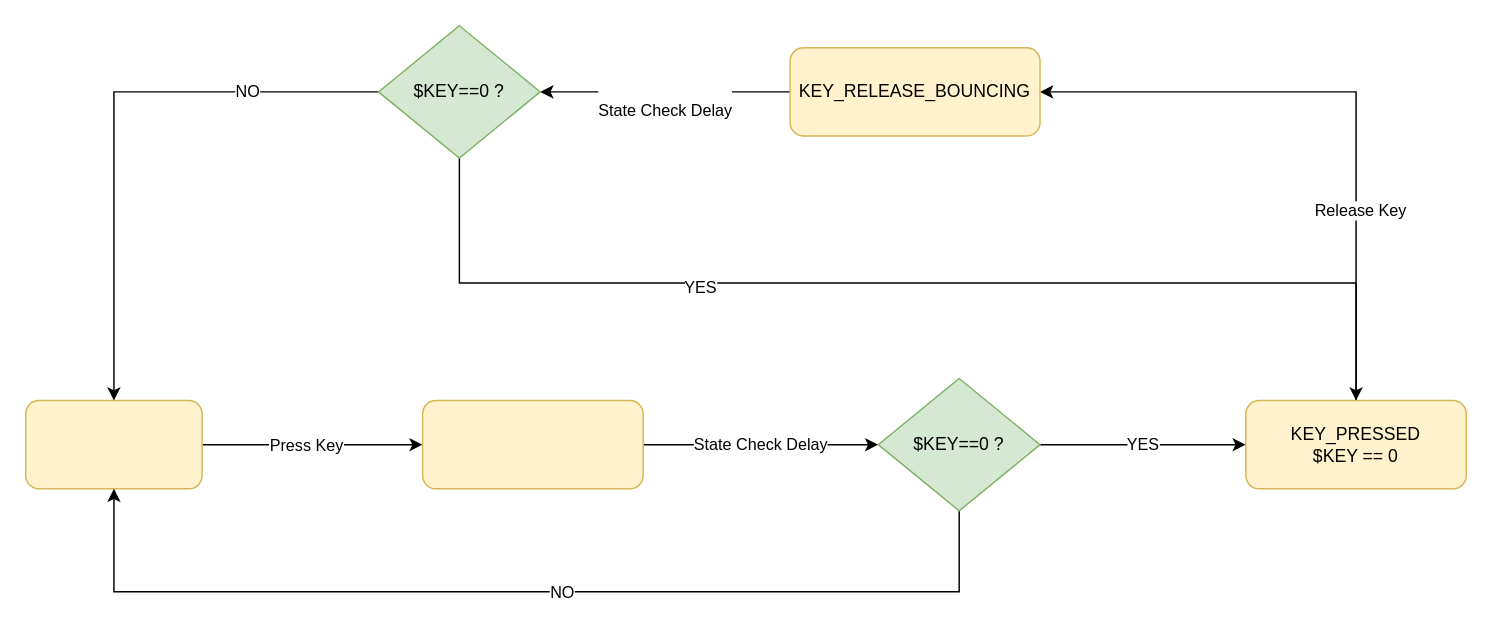
This 1492x629 diagram has some shape labels left out. Here are the shapes that lost their labels. From the top down, the centre of each, then its label:
At pixel 113 444: "KEY_RELEASED $KEY == 1".
At pixel 532 444: "KEY_PRESS_BOUNCING".
